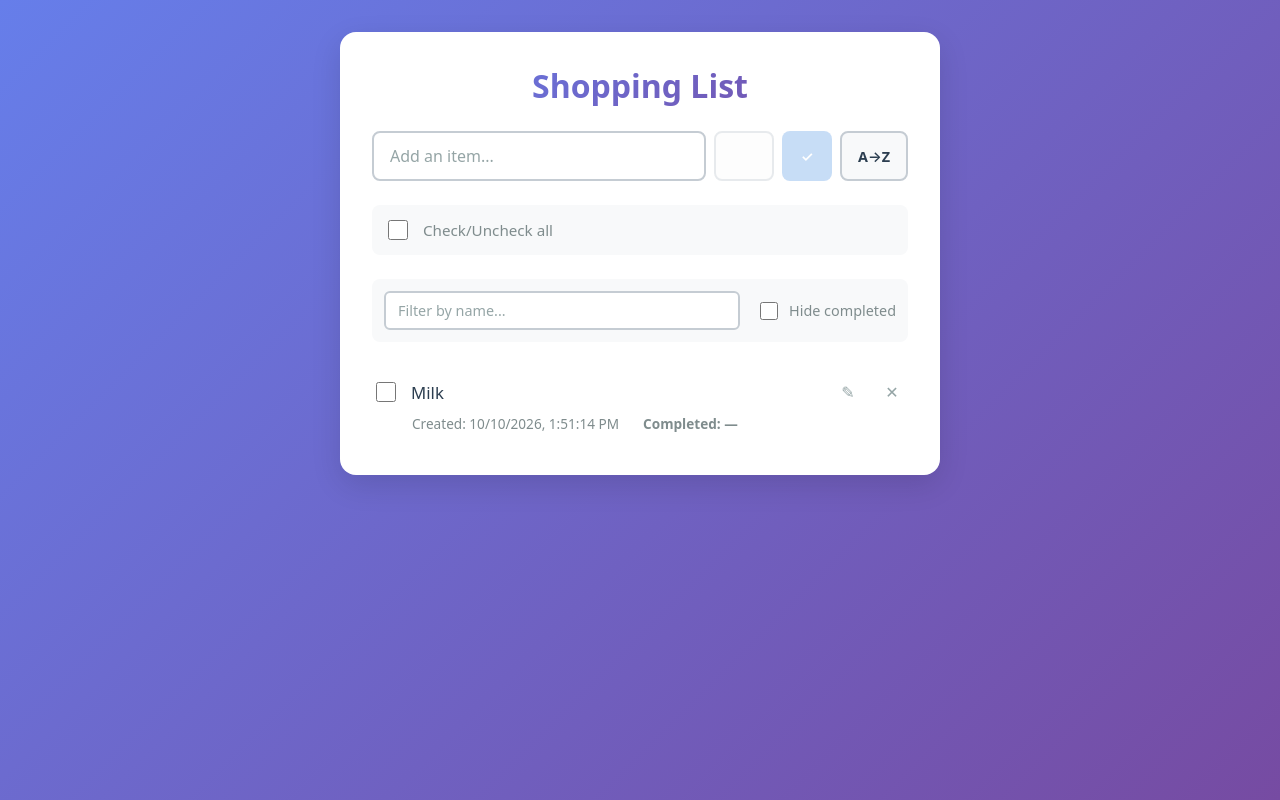
Scenario: App › shows a toast when deleting an item fails
Click the button "✕" at (892, 392), box [876,376,908,408]
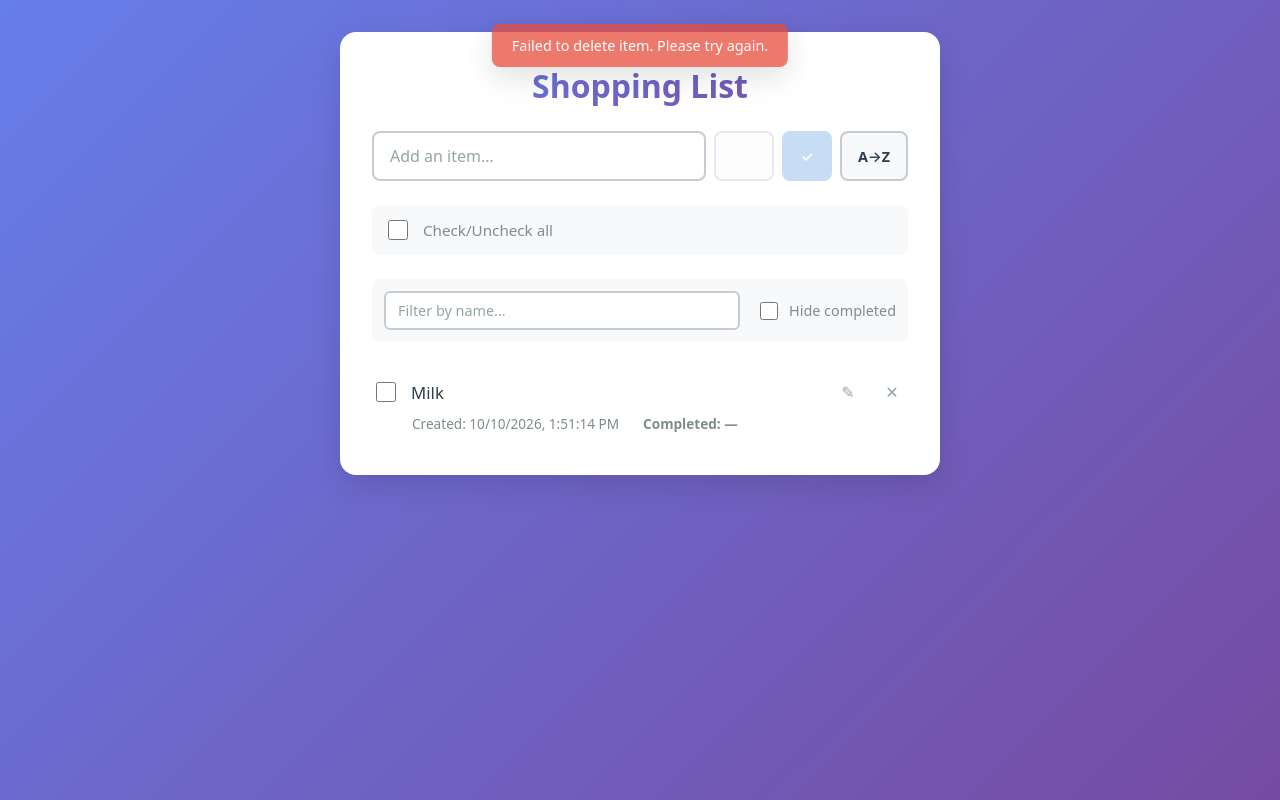
Result: the text "Failed to delete item. Please try again." is shown at [492,24,788,67]
